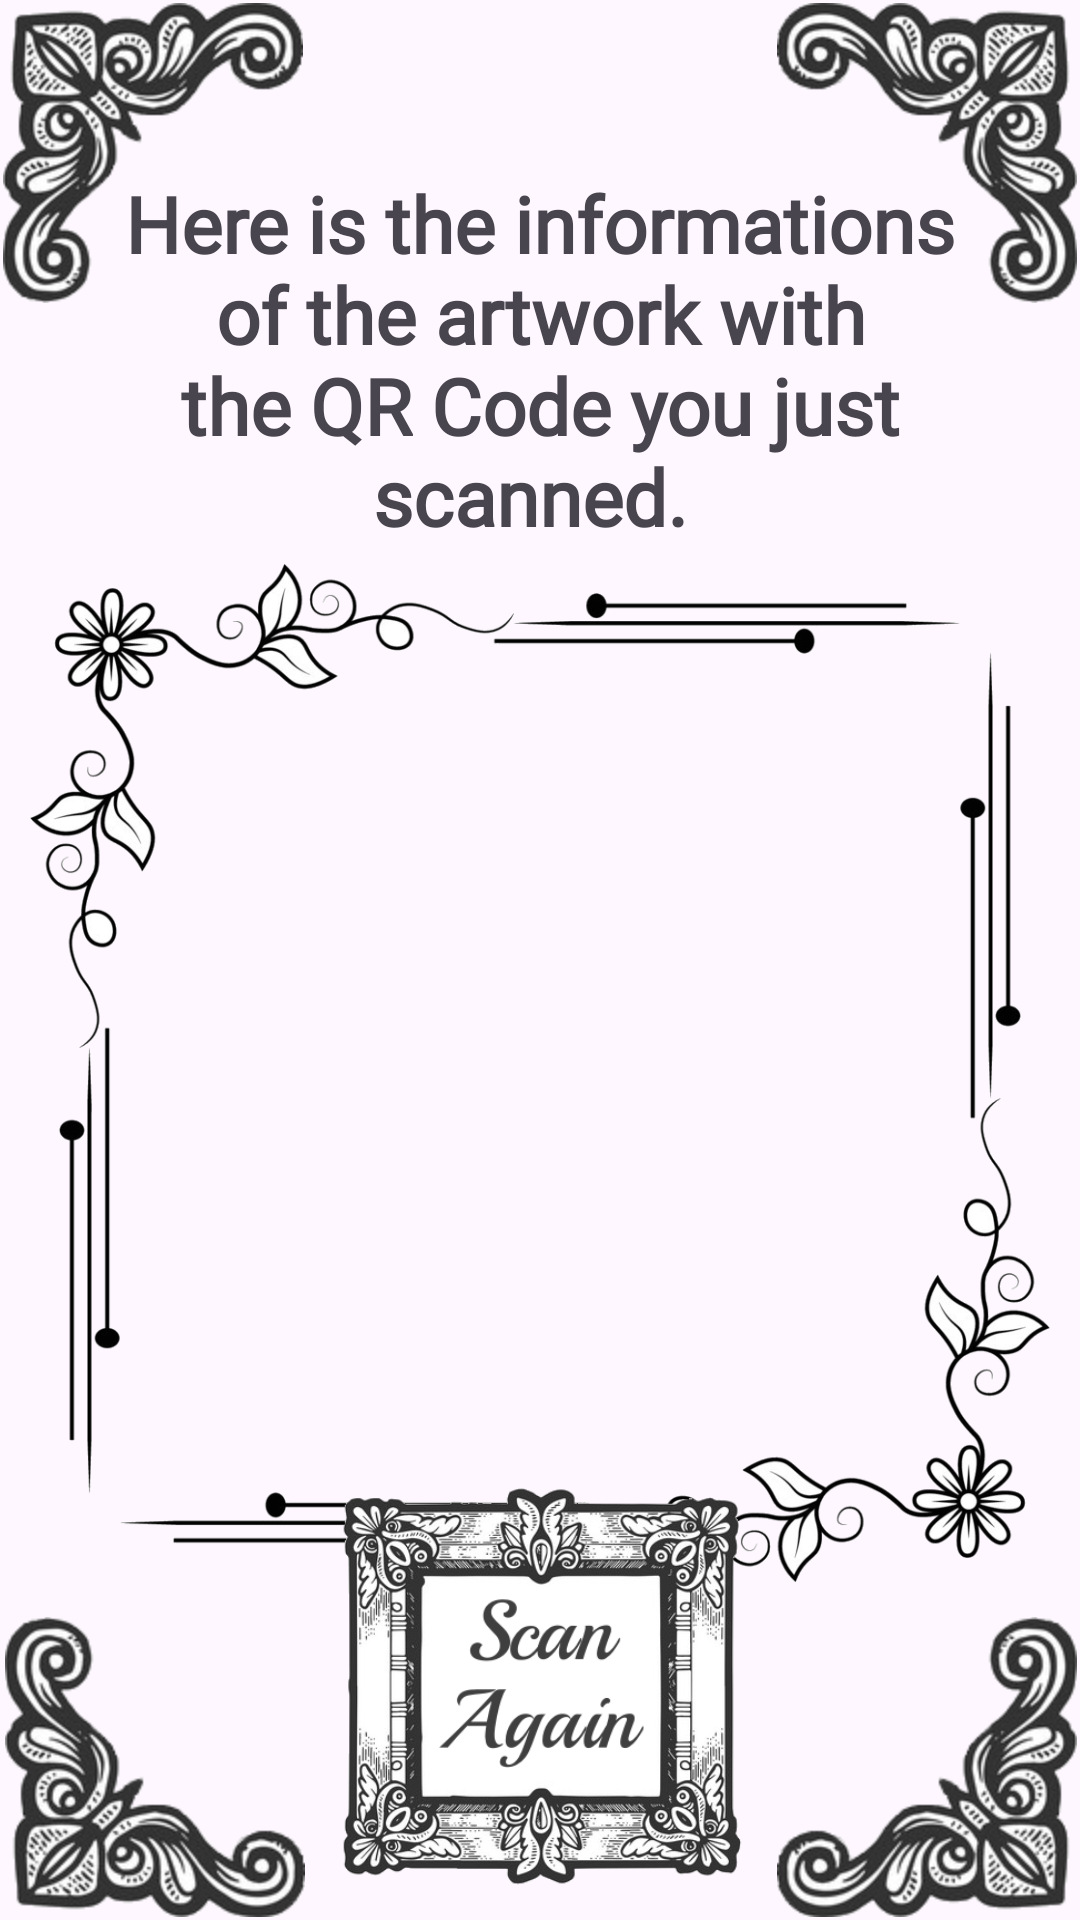

Icon bounding boxes for this 1080 x 1920 phone screenshot, format (x1,y1,x2,y2):
bottom left frame: (5,1617,305,1917)
bottom right frame: (777,1617,1077,1917)
top left frame: (3,3,303,303)
top right frame: (777,3,1077,303)
